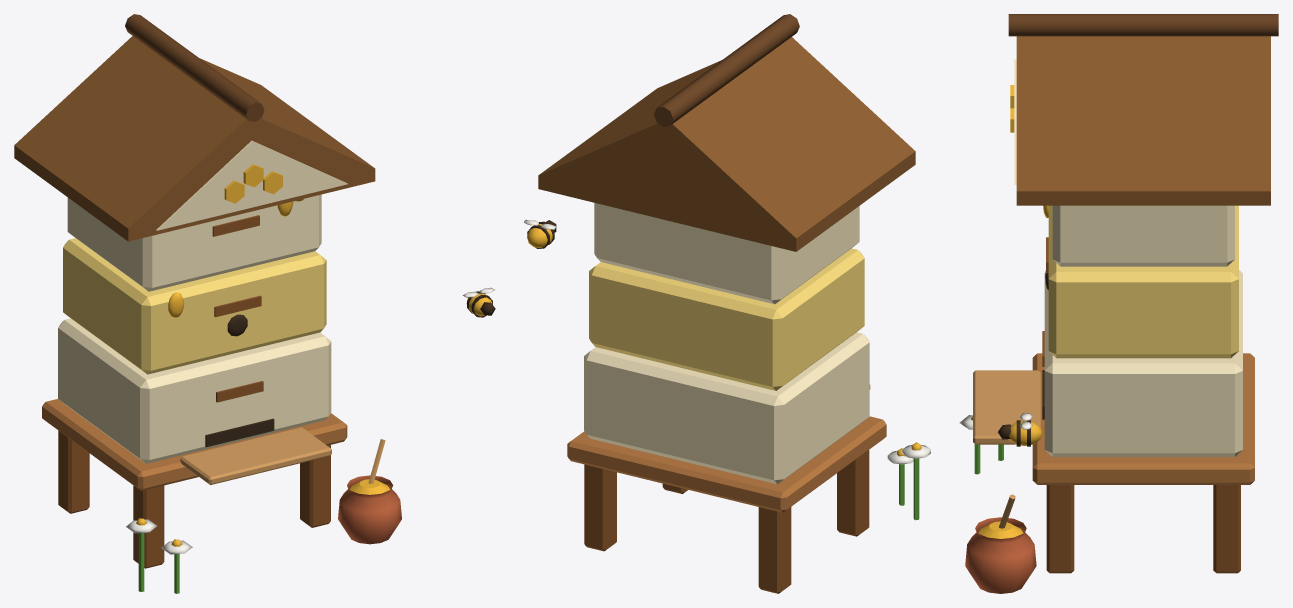
File: beehive.glb
The picture shows the model from 3 angles, left to right: view 1: azimuth 30°, elevation 25°; view 2: azimuth 150°, elevation 25°; view 3: azimuth 270°, elevation 25°; orthographic projection. The views are drawn at different scales.
Visible parts, largest first — view 1: Beehive_Body, Beehive_Bee; view 2: Beehive_Body, Beehive_Bee; view 3: Beehive_Body, Beehive_Bee.
Part boxes in pixels (left/top/right/bottom): Beehive_Body: left=14, top=14, right=401, bottom=593; Beehive_Bee: left=462, top=287, right=495, bottom=317; Beehive_Body: left=538, top=14, right=930, bottom=593; Beehive_Bee: left=524, top=219, right=556, bottom=248; Beehive_Body: left=959, top=14, right=1278, bottom=593; Beehive_Bee: left=998, top=413, right=1042, bottom=446.
Bounding box in the file's own units: 1.22 × 1.41 × 0.805.
